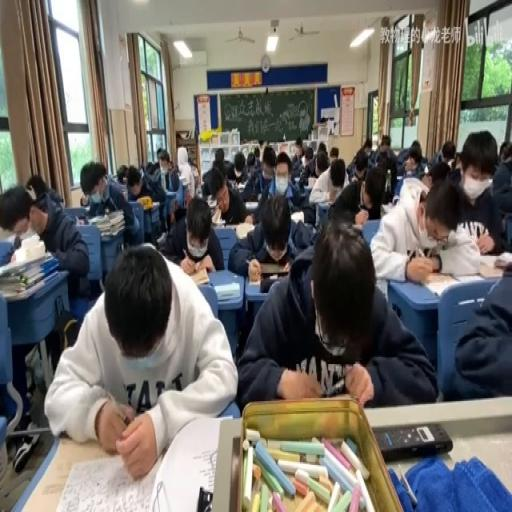calculator: (54, 452, 160, 512), (422, 270, 460, 297), (213, 282, 241, 300), (478, 262, 507, 278), (186, 266, 211, 283), (0, 237, 14, 267), (315, 200, 329, 228), (234, 222, 254, 240), (210, 204, 224, 224), (290, 209, 304, 225), (394, 172, 404, 192), (380, 200, 394, 214), (74, 215, 90, 226), (120, 180, 128, 198), (205, 195, 217, 206), (155, 232, 166, 244), (245, 199, 258, 209), (306, 175, 316, 188), (144, 199, 158, 208), (234, 180, 246, 190), (352, 222, 365, 230), (178, 174, 187, 184), (293, 175, 302, 183)
paper: (45, 242, 237, 479), (238, 212, 434, 408), (0, 176, 90, 300), (445, 257, 512, 401), (443, 132, 511, 256), (81, 158, 141, 250), (198, 164, 250, 226), (352, 164, 390, 223), (146, 148, 177, 199), (395, 136, 425, 175), (426, 138, 456, 175), (346, 136, 371, 175), (259, 145, 277, 188), (298, 145, 320, 179), (26, 174, 50, 204), (184, 151, 199, 196), (241, 171, 260, 202), (224, 147, 242, 179), (328, 158, 345, 190), (452, 150, 470, 180), (274, 150, 290, 180), (366, 144, 381, 168), (498, 139, 512, 161), (127, 179, 141, 198), (115, 165, 128, 185), (293, 136, 303, 160), (380, 132, 391, 150), (214, 148, 223, 165), (317, 141, 327, 155), (328, 145, 338, 158), (378, 155, 388, 168), (246, 152, 254, 168), (315, 162, 324, 175), (79, 195, 88, 206), (156, 148, 163, 161), (253, 145, 259, 158), (166, 159, 173, 168)
person: (373, 422, 450, 461), (259, 274, 286, 293), (196, 486, 213, 510), (258, 259, 286, 273)
